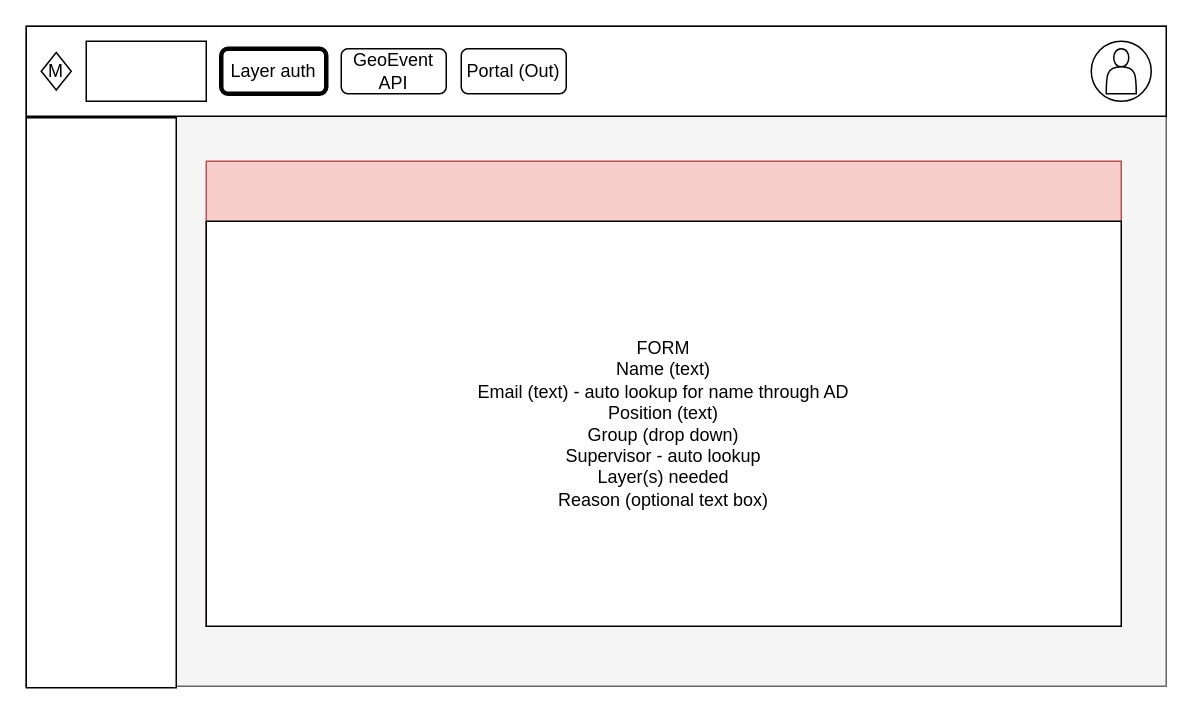
The diagram is 1193 pixels wide and 716 high, and some of its shapes have lost their labels. Here are the shapes that lost their labels. From the top down, the box of each, then its label:
(85, 40, 206, 101): Title
(25, 116, 176, 688): Active Requests Submit Request Historic Request Review Requests
(205, 160, 1121, 626): Submit Request
